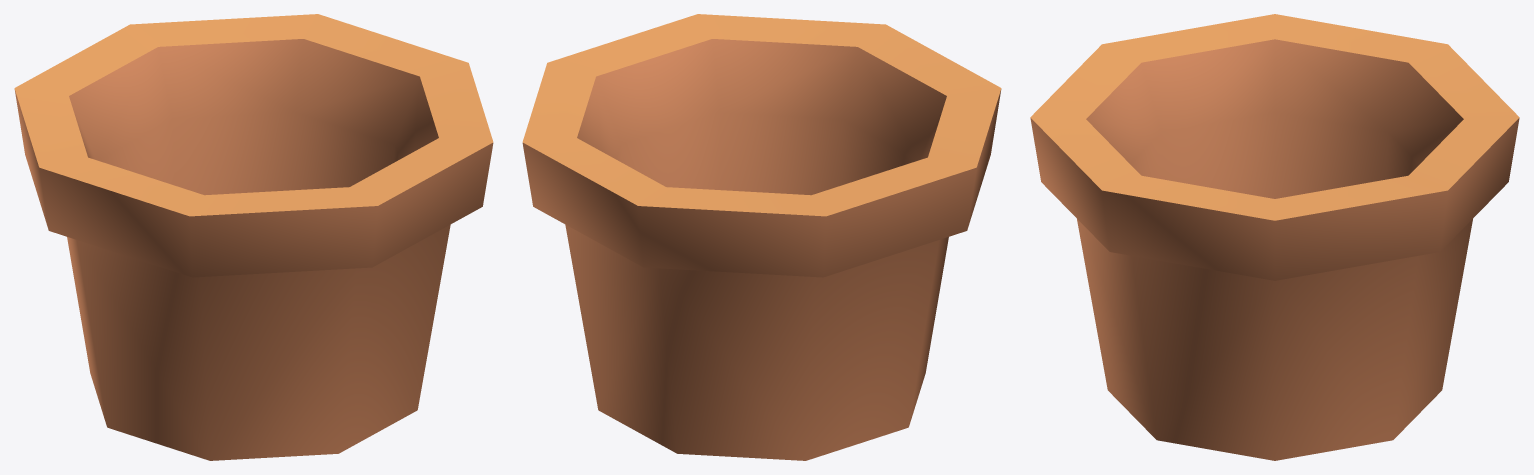
The model's file is SM_Prop_Pot_02.obj.
3 views of the same model, side by side, from view 1: azimuth 30°, elevation 25°; view 2: azimuth 150°, elevation 25°; view 3: azimuth 270°, elevation 25° (orthographic).
Parts seen in each view (by area): view 1: SM_Prop_Pot_02_Mat_SwatchOverlay_PolygonTown_01_Inst; view 2: SM_Prop_Pot_02_Mat_SwatchOverlay_PolygonTown_01_Inst; view 3: SM_Prop_Pot_02_Mat_SwatchOverlay_PolygonTown_01_Inst.
Part boxes in pixels (x1=…): SM_Prop_Pot_02_Mat_SwatchOverlay_PolygonTown_01_Inst: x1=14, y1=14, x2=493, y2=460; SM_Prop_Pot_02_Mat_SwatchOverlay_PolygonTown_01_Inst: x1=522, y1=14, x2=1001, y2=460; SM_Prop_Pot_02_Mat_SwatchOverlay_PolygonTown_01_Inst: x1=1030, y1=14, x2=1519, y2=460.
Size of the model in its own units: 0.2639 by 0.1624 by 0.2639.
1 material, 1 textured.
